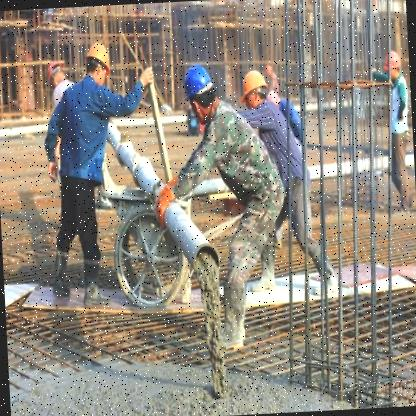capacete: (181, 60, 219, 130), (238, 64, 270, 116), (84, 40, 112, 91), (45, 57, 67, 94), (382, 48, 402, 85)
sem_colete_refletivo: (189, 101, 284, 208), (40, 76, 117, 196), (249, 99, 309, 192), (383, 79, 410, 136)
